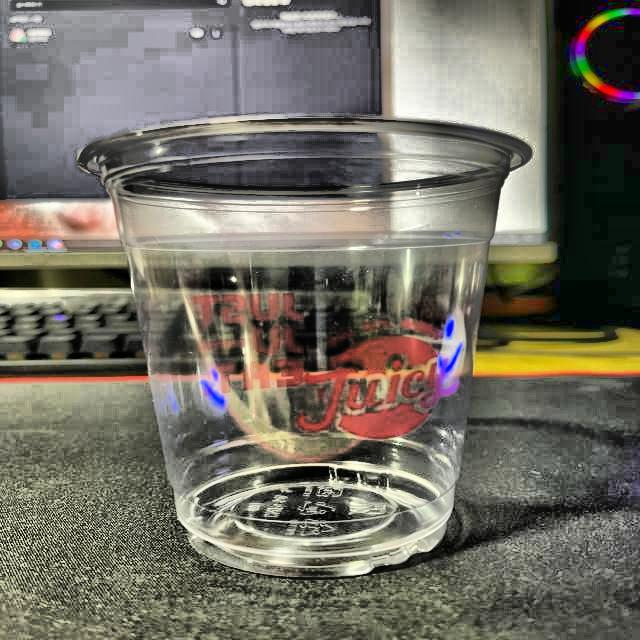plastic cup: (82, 113, 536, 580)
